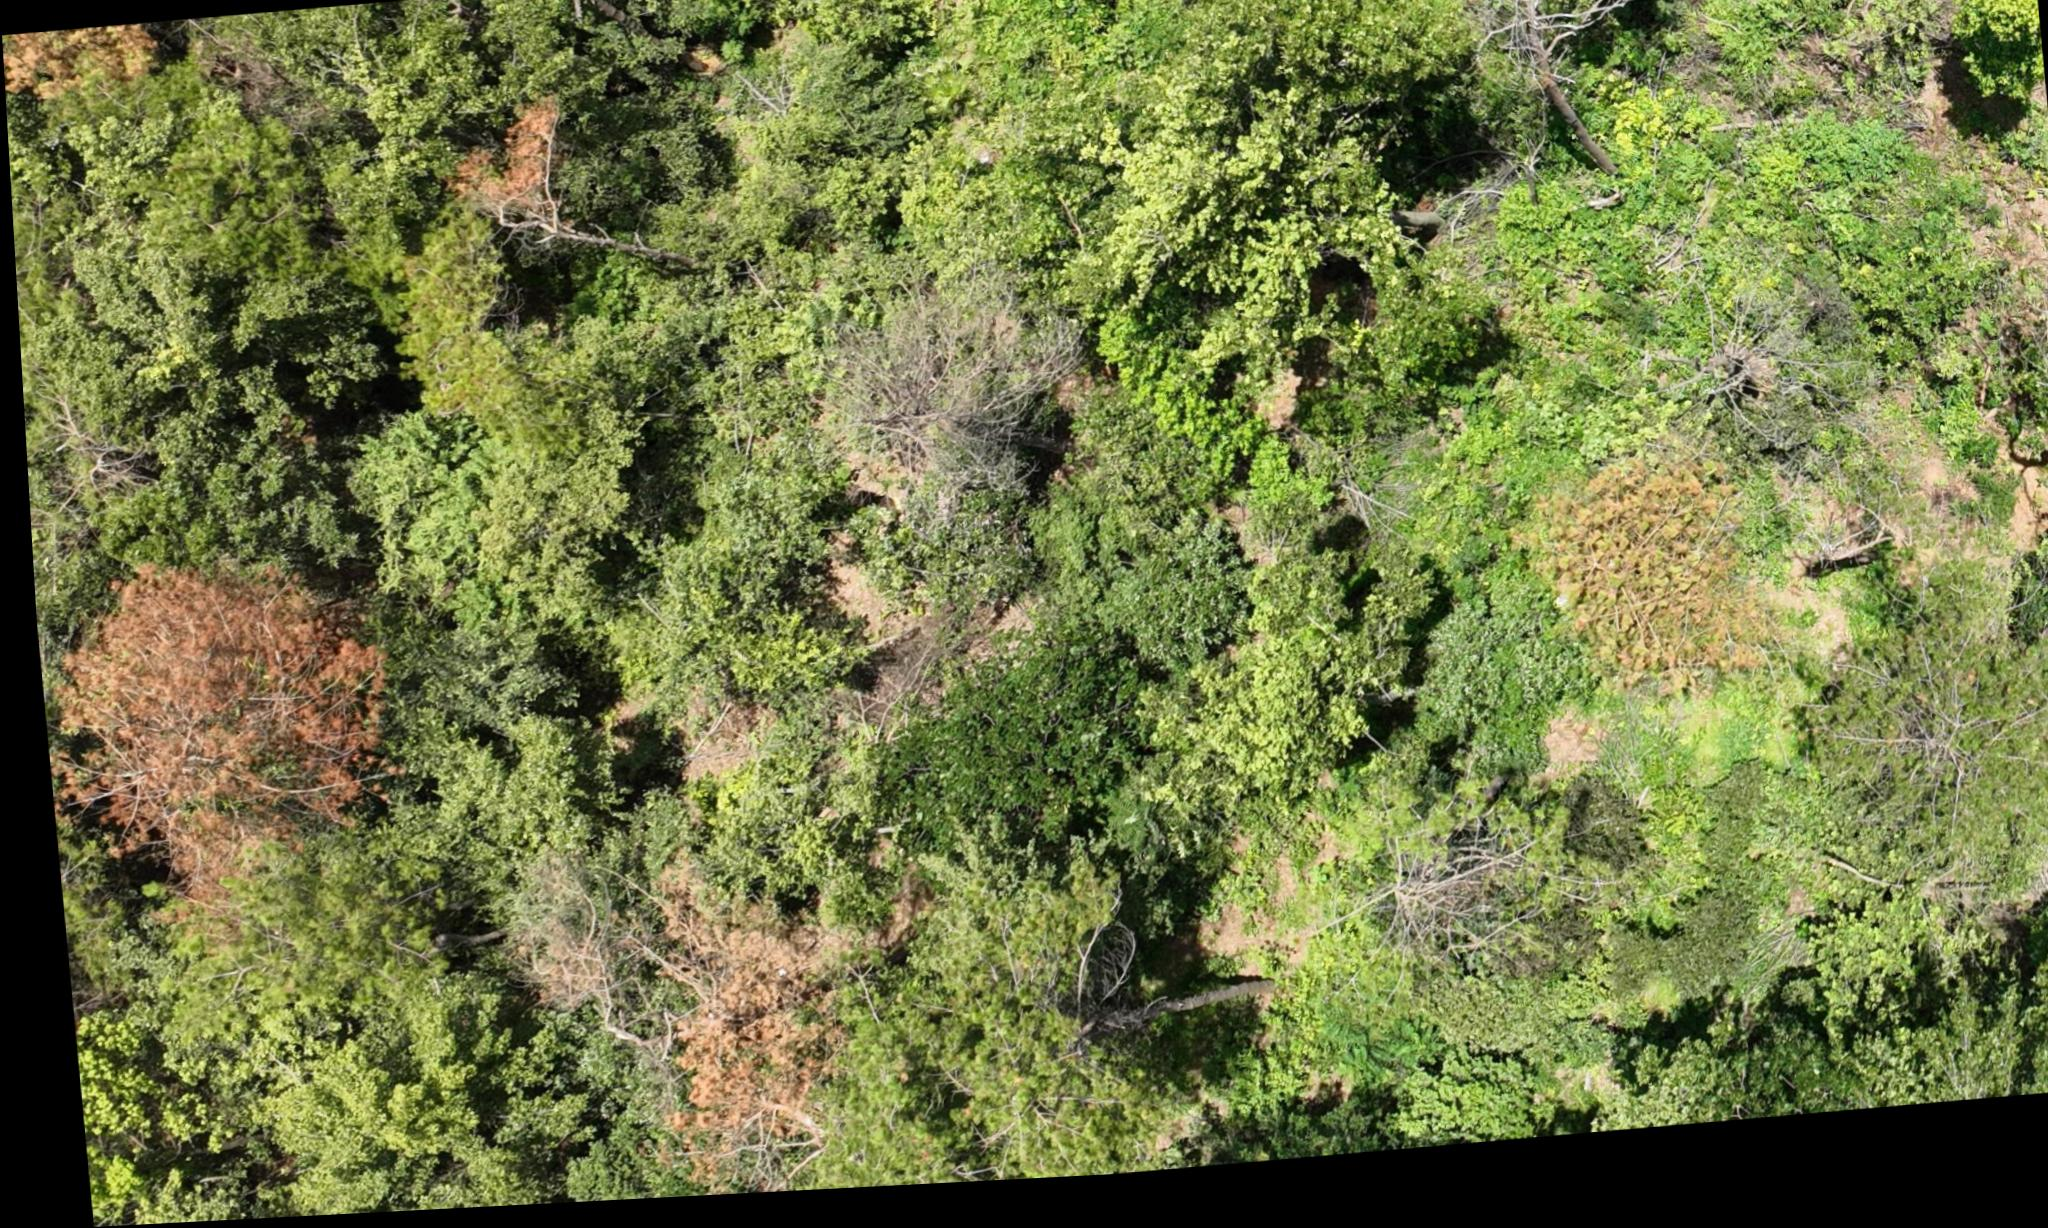dead: (800, 294, 1051, 541), (1462, 0, 1615, 187)
heavy: (48, 544, 376, 924), (588, 890, 823, 1193), (439, 89, 564, 251), (1, 31, 159, 104)
light: (1512, 481, 1763, 731)
